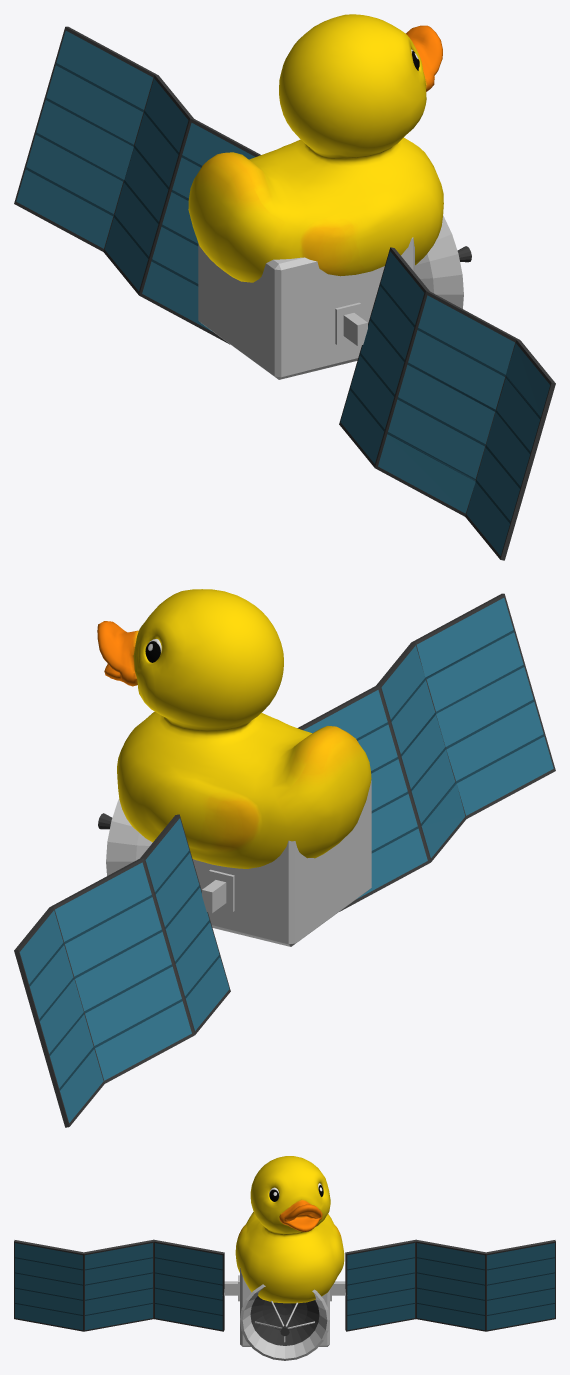
File: Satellite2.glb
3 views of the same model, one above another, from view 1: azimuth 30°, elevation 25°; view 2: azimuth 150°, elevation 25°; view 3: azimuth 270°, elevation 25° (orthographic). The views are drawn at different scales.
Visible parts, largest first — view 1: Satellite, LOD3spShape; view 2: Satellite, LOD3spShape; view 3: Satellite, LOD3spShape.
Part boxes in pixels (x1=…): Satellite: x1=14, y1=26, x2=555, y2=560; LOD3spShape: x1=188, y1=14, x2=443, y2=282; Satellite: x1=14, y1=593, x2=555, y2=1127; LOD3spShape: x1=97, y1=589, x2=371, y2=868; Satellite: x1=14, y1=1239, x2=555, y2=1360; LOD3spShape: x1=235, y1=1156, x2=344, y2=1303.
Size of the model in its own units: 1.76 by 2.23 by 5.75.
Materials: 2 (2 with a texture image).
